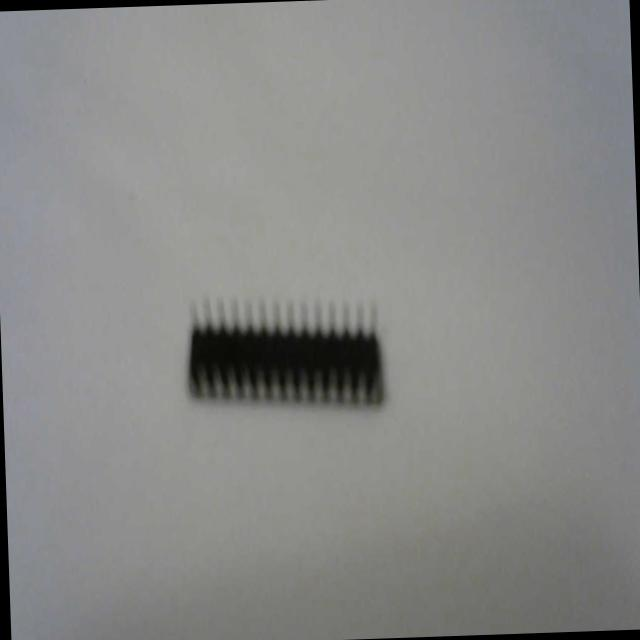atmega: (181, 284, 388, 418)
